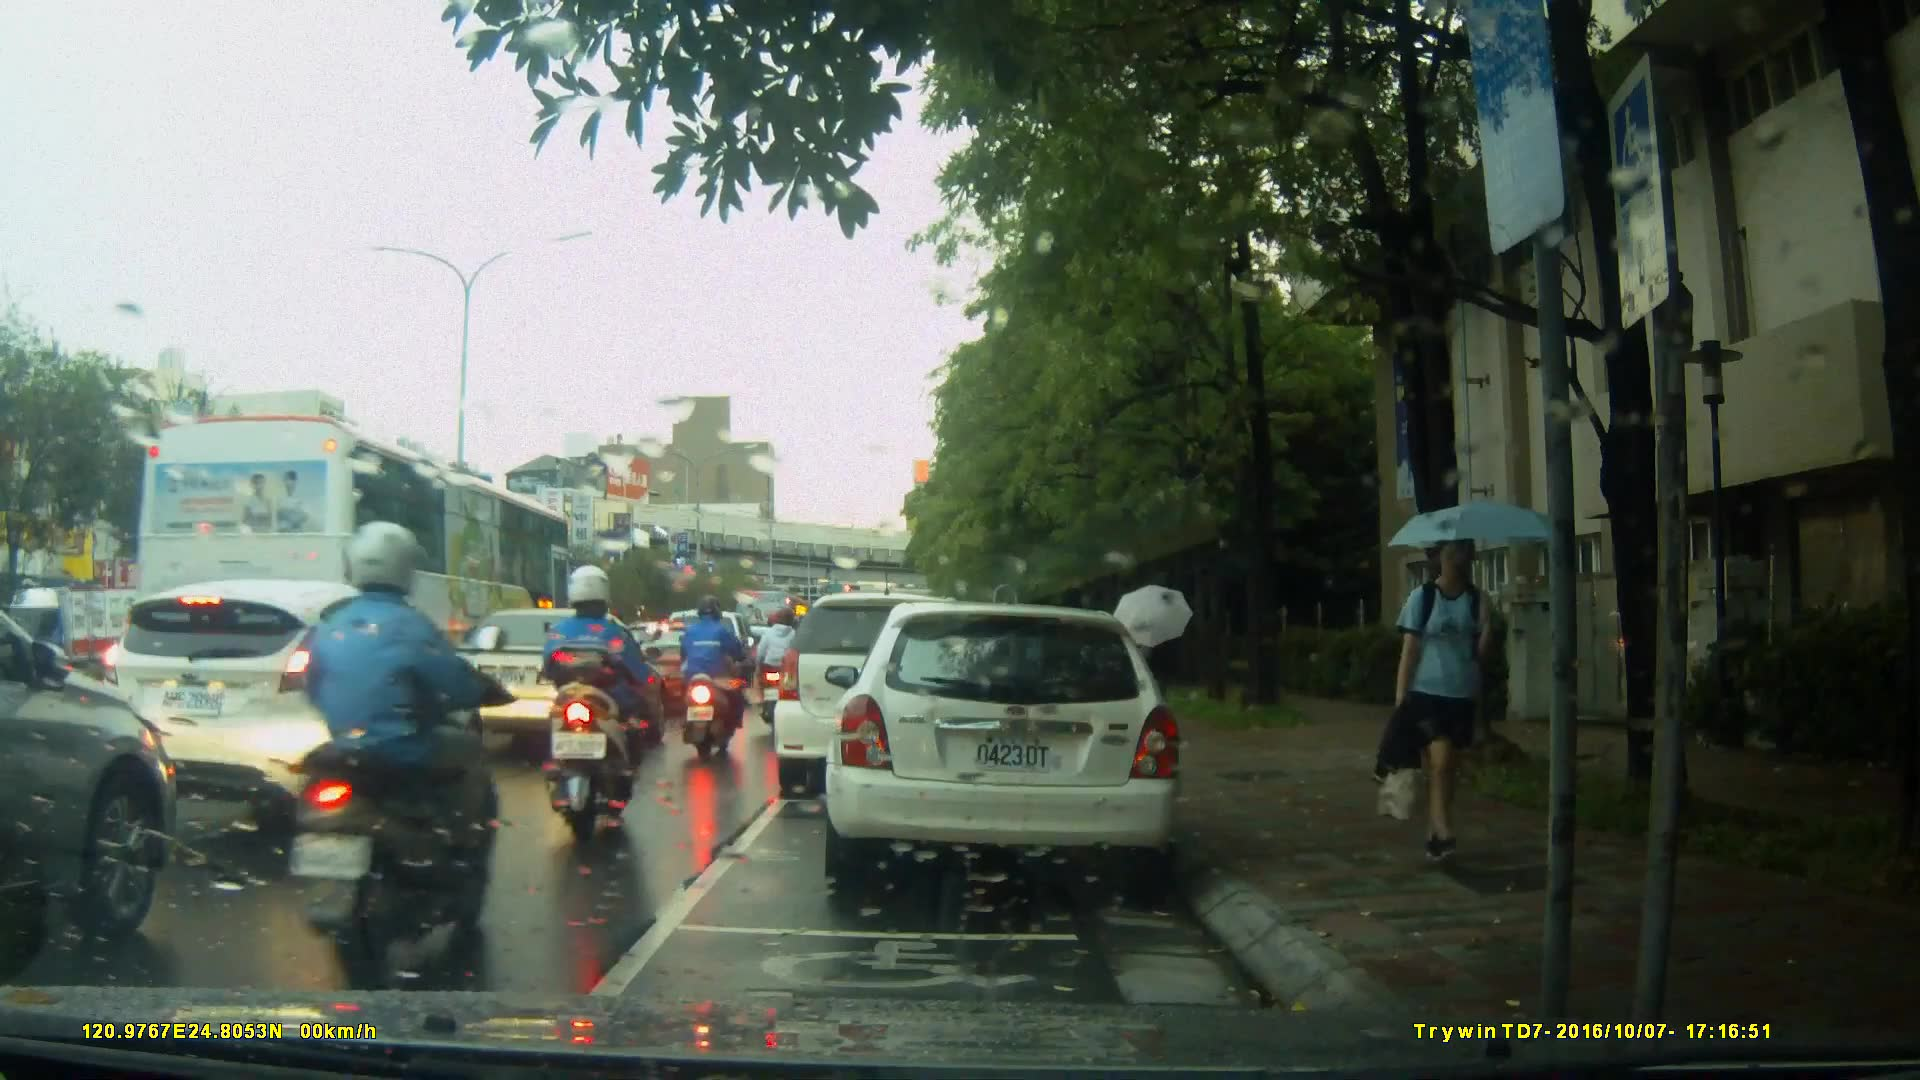pedestrian: (1367, 525, 1522, 878)
rider: (292, 526, 511, 991), (539, 568, 667, 837), (671, 598, 743, 766), (763, 600, 815, 736)
vehicle: (132, 409, 582, 725), (835, 594, 1194, 898), (99, 576, 486, 846), (776, 590, 1026, 784), (426, 605, 667, 748), (1, 586, 155, 697), (609, 619, 717, 713)
